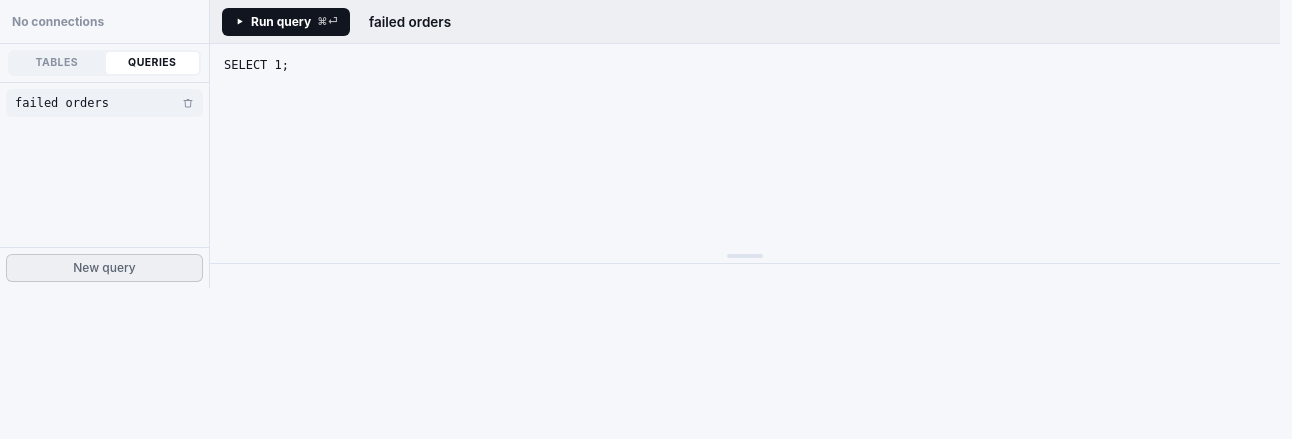
Test: QueryTab › refuses to stage a statement that returned rows
What coordinates should you click on to do the following:
click the button "Run query ⌘⏎"
I would click on:
 (286, 22)
Its box is [222, 8, 350, 36].
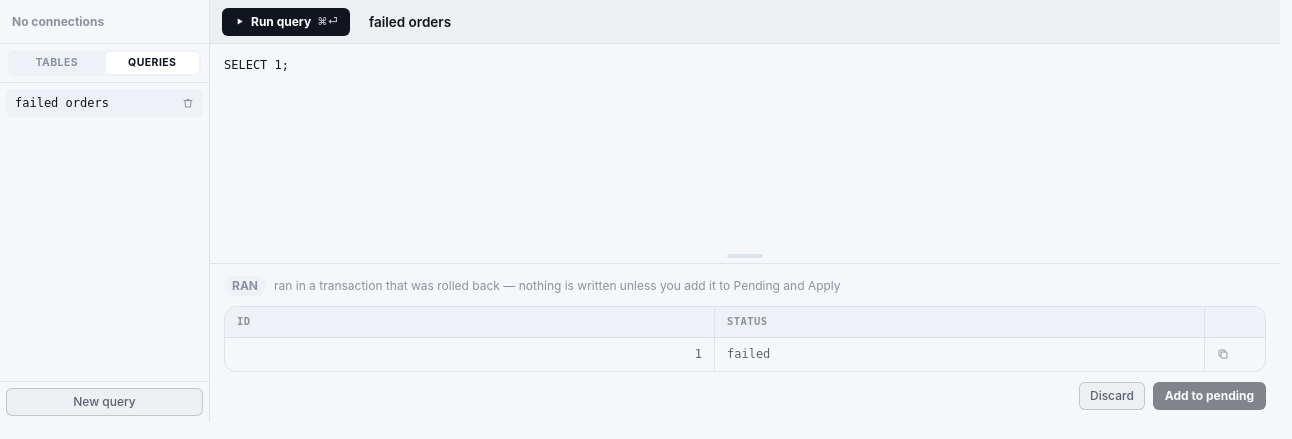
Result: the table is shown at [224, 306, 1266, 372]
Result: the button "Add to pending" is disabled at [1153, 382, 1266, 410]
